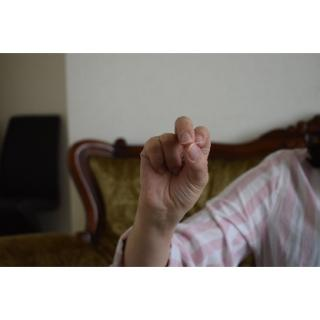QAAF: (132, 110, 216, 221)
